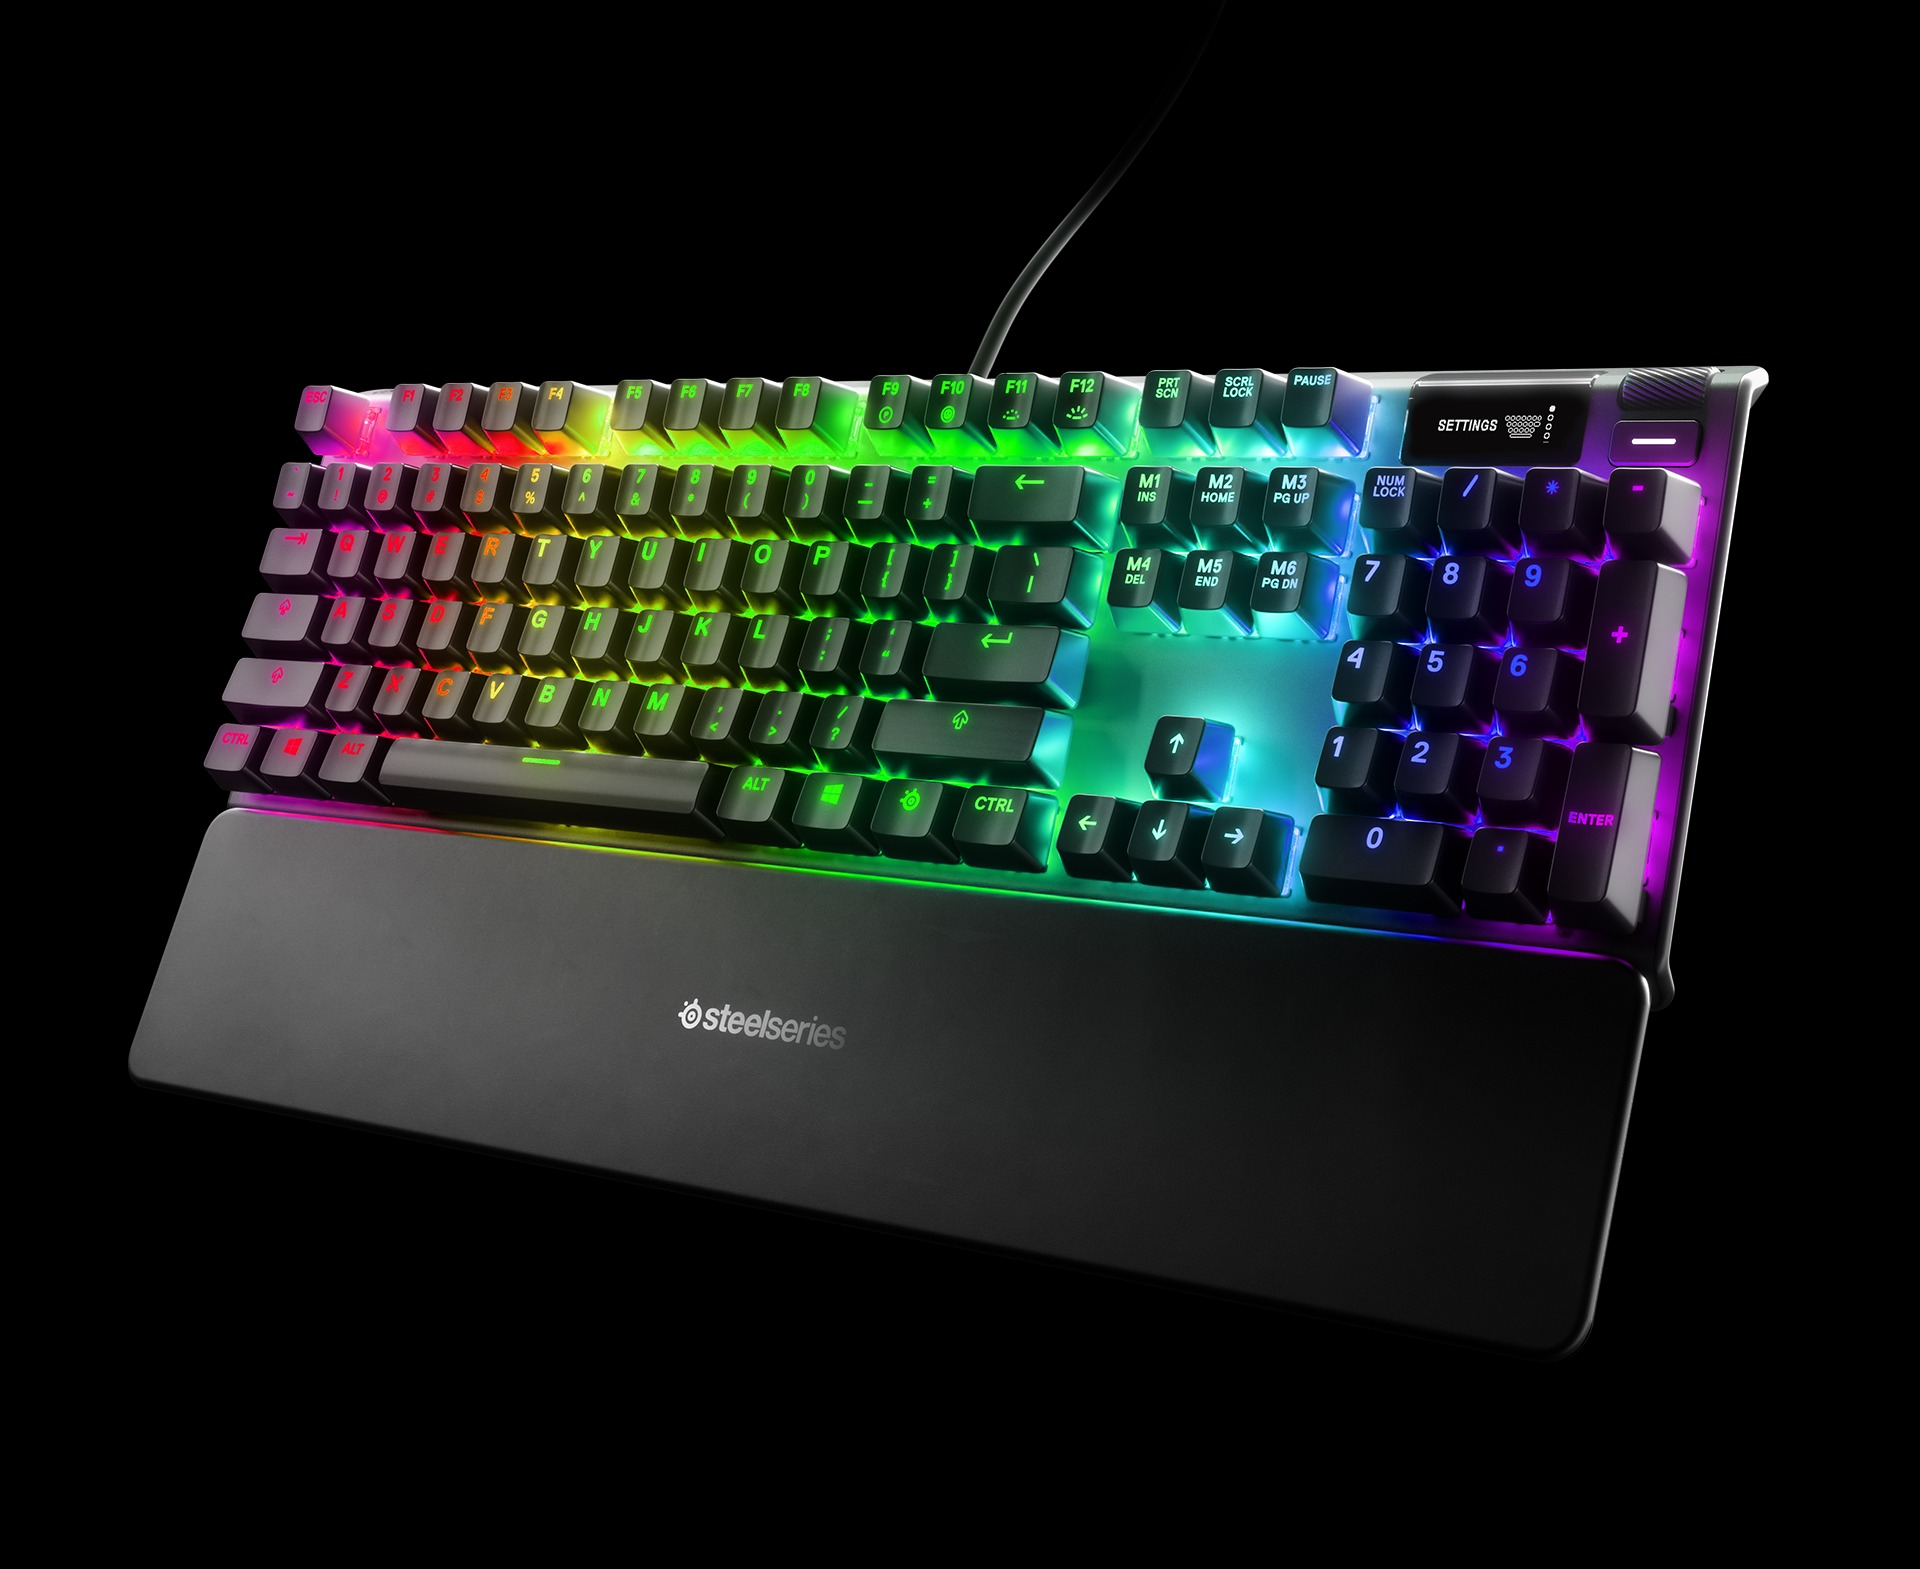keyboard: (191, 365, 1764, 1025)
